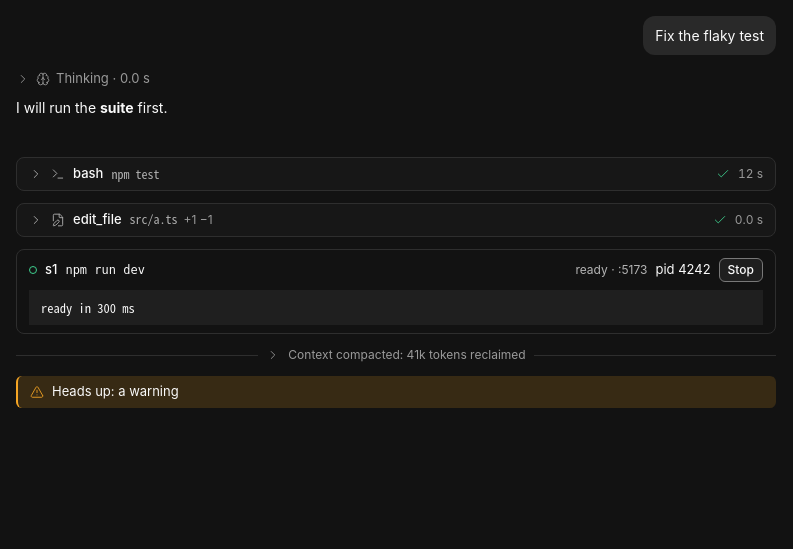
Test: Transcript entry kinds › shows the change counts on an edit card and a diff, unified or side by side, on expand
The image size is (793, 549).
Click the button "edit_file src/a.ts +1 −1 0.0 s".
click(97, 219)  # box [17,204,775,236]
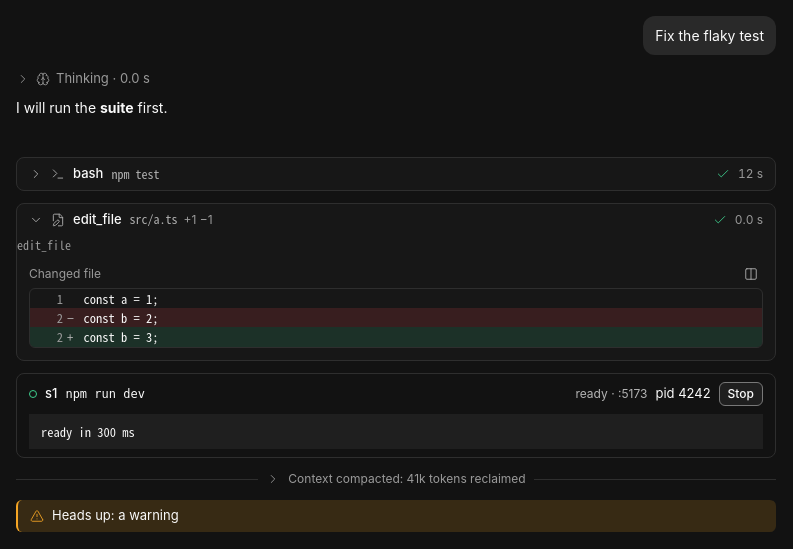
Expected: the text "const b = 3;" is shown, [84,327,158,346]
Expected: the table with class "diff-unified" is shown, [30,289,762,347]
Click the button named "Show side by side".
click(751, 274)  # box [739,262,763,286]
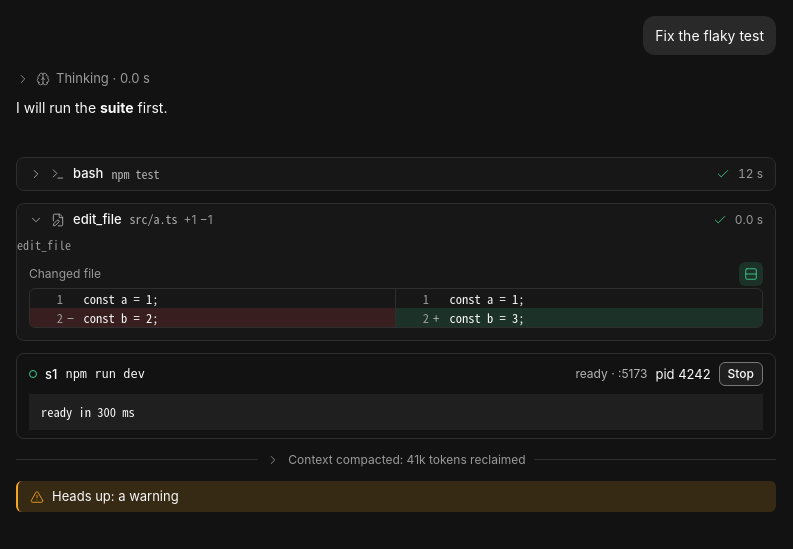
Expected: the table with class "diff-split" is shown, [30,289,762,328]
